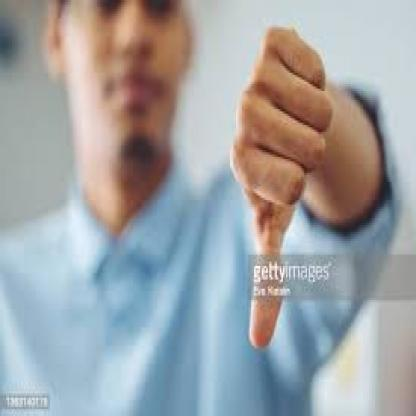thumb_down: (228, 23, 335, 350)
